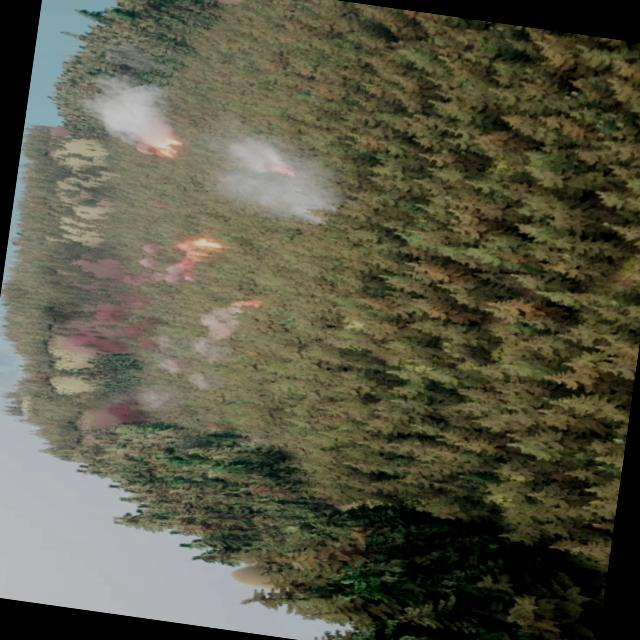fire: (178, 228, 224, 264), (133, 130, 182, 158)
smoke: (217, 134, 342, 227), (82, 69, 189, 151), (186, 289, 255, 365)
